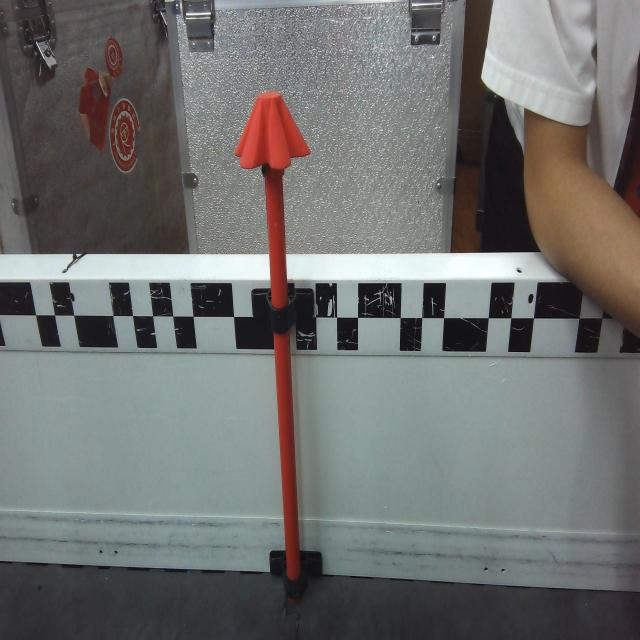zred-Stake-Head: (234, 91, 311, 170)
